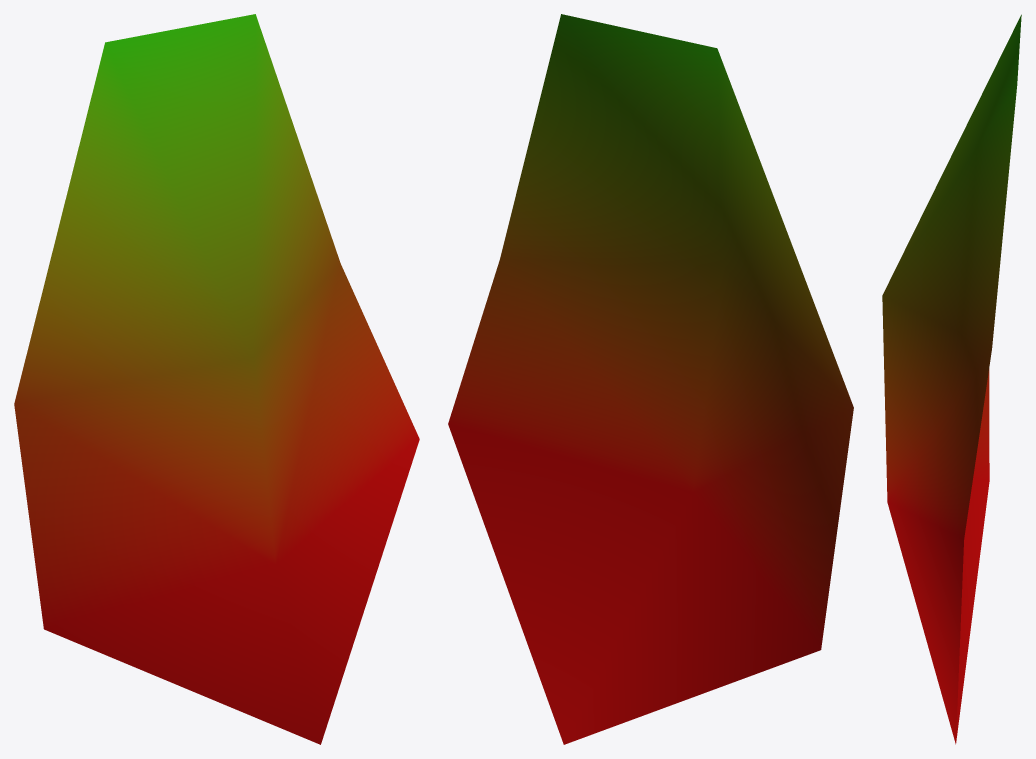
The model's file is Var4_LOD6.fbx.
The picture shows the model from 3 angles, left to right: view 1: azimuth 30°, elevation 25°; view 2: azimuth 150°, elevation 25°; view 3: azimuth 270°, elevation 25°; orthographic projection. The views are drawn at different scales.
Visible parts, largest first — view 1: _2ov5_Var4_LOD6; view 2: _2ov5_Var4_LOD6; view 3: _2ov5_Var4_LOD6.
Part boxes in pixels (x1,y1,x2,y2): _2ov5_Var4_LOD6: (14, 14, 419, 744); _2ov5_Var4_LOD6: (448, 14, 853, 744); _2ov5_Var4_LOD6: (882, 14, 1021, 744).
Size of the model in its own units: 82.47 by 145 by 28.03.
